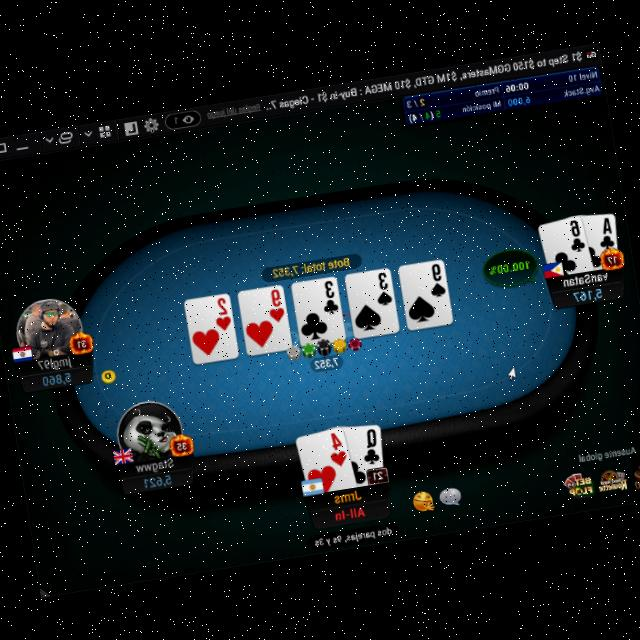2h: (212, 293, 234, 331)
3c: (317, 276, 340, 316)
3s: (372, 268, 394, 306)
6c: (564, 214, 588, 252)
8s: (425, 260, 447, 298), (372, 268, 394, 306)
9h: (265, 286, 287, 323)
9s: (424, 259, 448, 298)
Ac: (593, 211, 618, 251)
Jh: (325, 427, 349, 467)
Qc: (357, 425, 381, 465)
all_in_symbol: (332, 500, 366, 522)
bet_text: (312, 352, 342, 369)
dealer: (98, 364, 118, 384)
pot_text: (270, 255, 350, 278)
stack_text: (38, 366, 72, 386), (571, 283, 605, 302), (142, 469, 174, 488)
